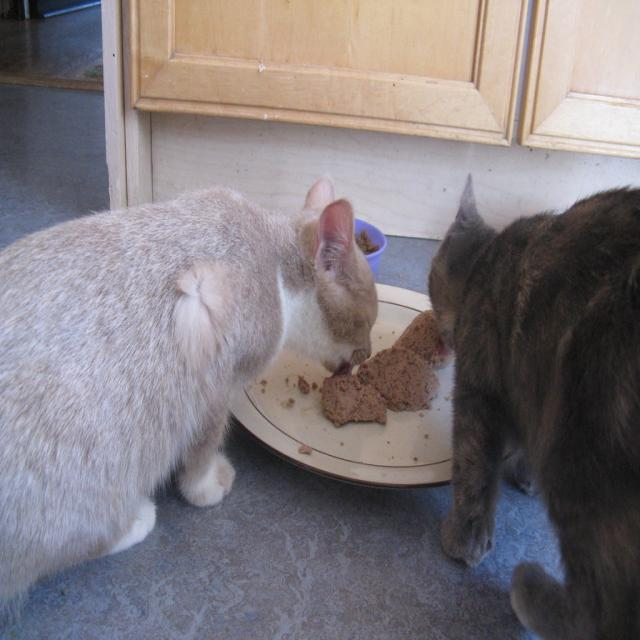Cat: (0, 168, 382, 616), (427, 168, 635, 638)
